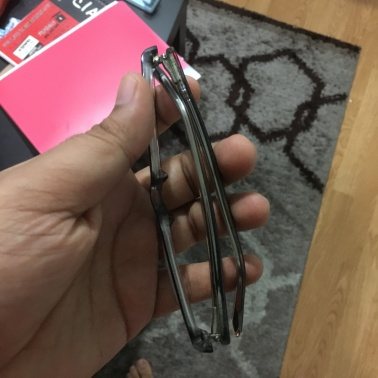glasses: (136, 56, 253, 351)
